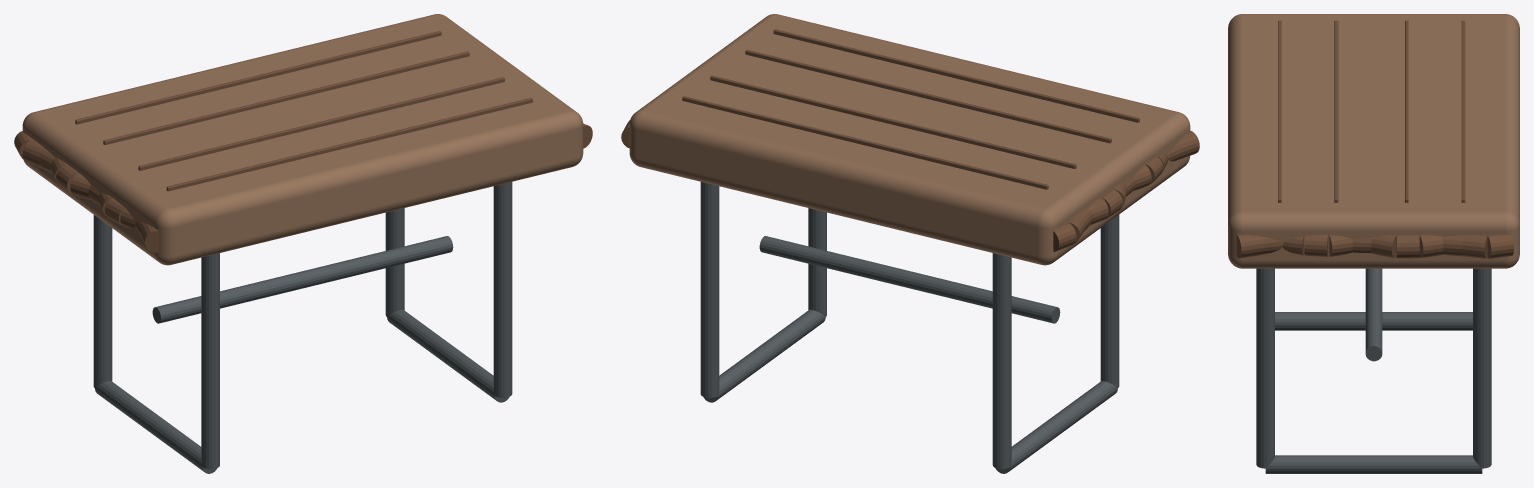
Rendered from w25-live-edge-side-table.glb.
3 views of the same model, side by side, from view 1: azimuth 30°, elevation 25°; view 2: azimuth 150°, elevation 25°; view 3: azimuth 270°, elevation 25° (orthographic).
Parts seen in each view (by area): view 1: walnut_slab, cross_brace, leg_0.36_back, leg_-0.36_back, leg_-0.36_front, leg_-0.36_floor, leg_0.36_floor, grain_0.08, grain_-0.19, grain_-0.07, grain_0.2, leg_0.36_front; view 2: walnut_slab, cross_brace, leg_-0.36_front, leg_0.36_front, leg_-0.36_back, leg_0.36_floor, leg_-0.36_floor, grain_-0.19, grain_-0.07, grain_0.08, grain_0.2, leg_0.36_back; view 3: walnut_slab, leg_0.36_floor, leg_0.36_front, leg_0.36_back, leg_-0.36_floor, cross_brace, grain_-0.19, grain_0.08, grain_-0.07, grain_0.2, live_edge_1_0, live_edge_1_11 (+8 smaller).
Boxes of the visible parts, x1,y1,x2,y2 form: walnut_slab: (22, 14, 583, 265); cross_brace: (152, 236, 453, 323); leg_0.36_back: (493, 182, 512, 397); leg_-0.36_back: (201, 253, 219, 469); leg_-0.36_front: (93, 215, 112, 387); leg_-0.36_floor: (95, 381, 217, 473); leg_0.36_floor: (387, 309, 509, 402); grain_0.08: (138, 77, 504, 170); grain_-0.19: (75, 31, 441, 124); grain_-0.07: (103, 51, 469, 144); grain_0.2: (166, 97, 532, 191); leg_0.36_front: (385, 208, 404, 316); walnut_slab: (629, 14, 1190, 265); cross_brace: (759, 236, 1060, 323); leg_-0.36_front: (992, 253, 1011, 469); leg_0.36_front: (700, 182, 719, 397); leg_-0.36_back: (1100, 215, 1119, 387); leg_0.36_floor: (703, 309, 825, 402); leg_-0.36_floor: (995, 381, 1117, 473); grain_-0.19: (682, 96, 1048, 189); grain_-0.07: (710, 75, 1076, 168); grain_0.08: (745, 49, 1111, 143); grain_0.2: (773, 29, 1139, 122); leg_0.36_back: (808, 208, 826, 316); walnut_slab: (1228, 14, 1519, 268); leg_0.36_floor: (1265, 455, 1482, 473); leg_0.36_front: (1473, 268, 1491, 468); leg_0.36_back: (1256, 268, 1274, 468); leg_-0.36_floor: (1275, 312, 1472, 330); cross_brace: (1365, 268, 1382, 361); grain_-0.19: (1461, 20, 1465, 202); grain_0.08: (1334, 20, 1338, 202); grain_-0.07: (1405, 20, 1408, 202); grain_0.2: (1278, 20, 1281, 202); live_edge_1_0: (1487, 234, 1513, 258); live_edge_1_11: (1236, 234, 1263, 258).
Size of the model in its own units: 1.11 by 0.6837 by 0.62.
